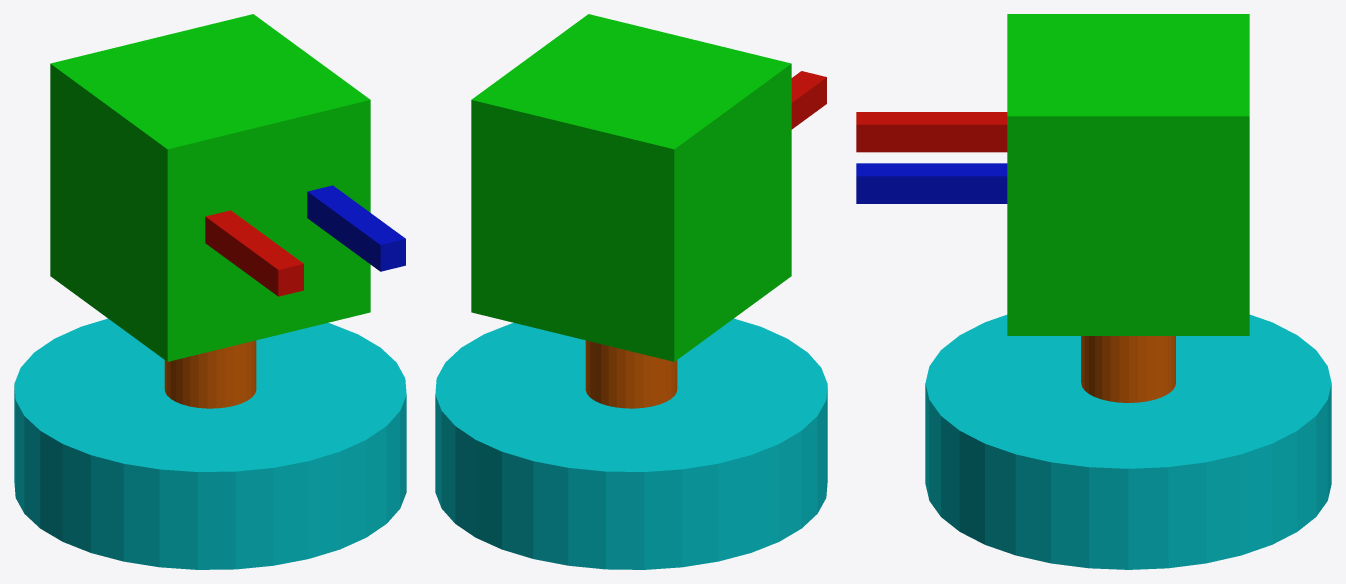
Rendered from turret cannon multicolored.fbx.
3 renders of one model, left to right at view 1: azimuth 30°, elevation 25°; view 2: azimuth 150°, elevation 25°; view 3: azimuth 270°, elevation 25°, orthographic. The views are drawn at different scales.
Visible parts, largest first — view 1: Cube, Cylinder, Cylinder.001, Cube.001, Cube.002; view 2: Cube, Cylinder, Cylinder.001, Cube.001; view 3: Cylinder, Cube, Cube.002, Cube.001, Cylinder.001.
Boxes of the visible parts, x1,y1,x2,y2 form: Cube: (50,14,370,361); Cylinder: (14,318,406,569); Cylinder.001: (164,340,256,408); Cube.001: (205,210,303,296); Cube.002: (307,185,405,271); Cube: (471,14,791,361); Cylinder: (435,318,827,569); Cylinder.001: (585,340,677,408); Cube.001: (791,71,826,129); Cylinder: (925,314,1331,569); Cube: (1007,14,1249,335); Cube.002: (856,163,1007,203); Cube.001: (856,112,1007,152); Cylinder.001: (1081,336,1175,402).
Size of the model in its own units: 200 by 228 by 234.
